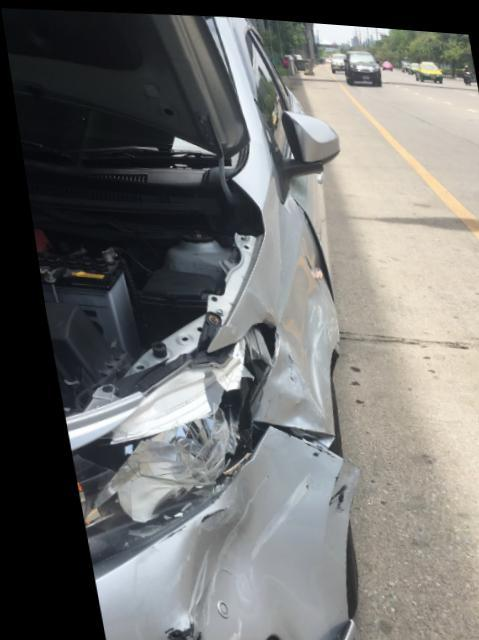crack: (148, 621, 183, 640)
dent: (161, 458, 291, 640), (259, 266, 319, 423)
dislocated part: (78, 420, 355, 640)
lamp broken: (57, 320, 266, 579)
scratch: (317, 473, 336, 513)
